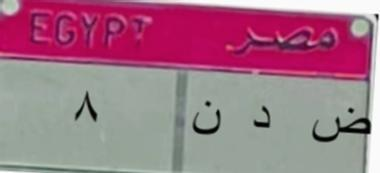8: (71, 86, 101, 132)
daad: (304, 103, 375, 154)
daal: (251, 103, 276, 138)
noon: (189, 97, 223, 142)
